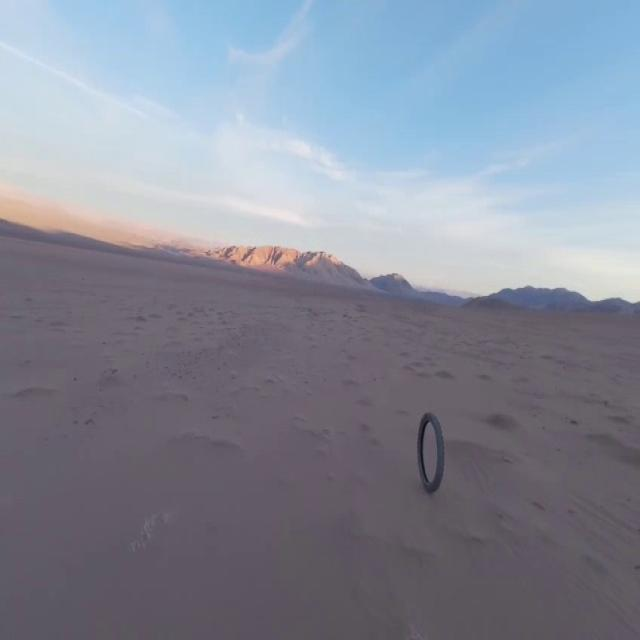Tire: (417, 414, 443, 491)
